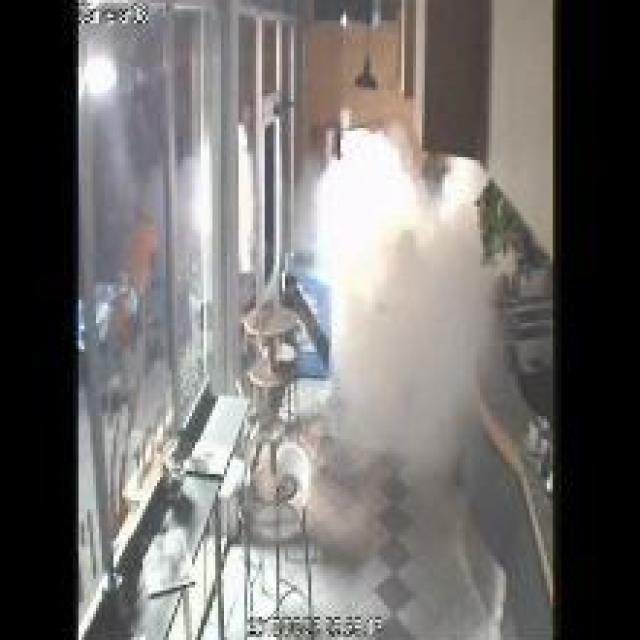fire: (313, 123, 502, 470)
